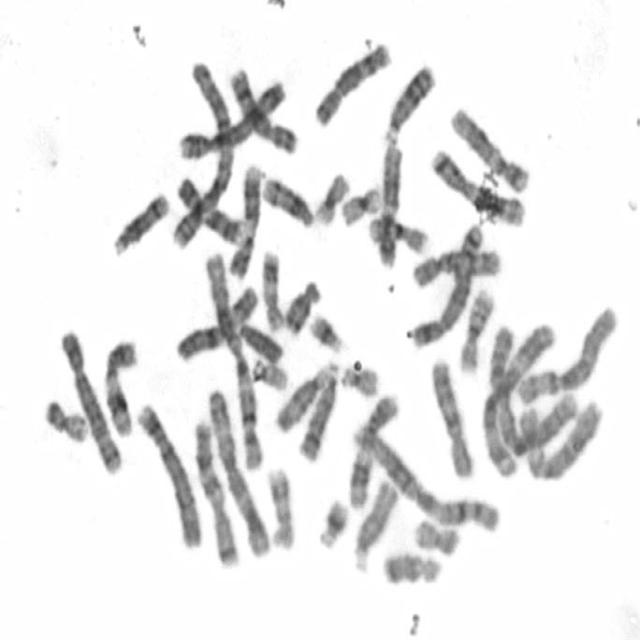A1: (347, 422, 503, 534), (201, 248, 259, 436)
A2: (169, 60, 236, 251), (488, 327, 579, 461)
A3: (480, 320, 559, 481), (204, 383, 270, 556)
B4: (134, 399, 204, 549), (174, 74, 288, 162)
B5: (409, 218, 486, 350), (57, 325, 123, 476)
C10: (428, 354, 475, 481), (409, 244, 502, 290)
C11: (224, 159, 264, 281), (100, 334, 140, 438)
C12: (447, 101, 530, 194), (374, 140, 404, 269)
C6: (513, 300, 619, 406), (516, 391, 606, 482)
C7: (428, 145, 526, 227), (191, 414, 240, 568)
C8: (311, 36, 393, 128), (228, 64, 298, 158)
C9: (173, 172, 245, 248), (224, 159, 264, 281)
D13: (294, 358, 340, 465), (381, 60, 436, 144)
D14: (110, 188, 170, 258), (260, 171, 315, 229)
D15: (270, 358, 340, 437), (350, 476, 399, 572)
E16: (454, 284, 496, 373), (365, 210, 428, 256)
E17: (264, 462, 296, 552), (259, 245, 285, 333)
E18: (280, 276, 322, 337), (379, 549, 443, 587)
F19: (311, 170, 351, 227), (338, 183, 382, 228)
F20: (41, 394, 90, 444), (412, 514, 462, 557)
G21: (314, 494, 350, 552), (307, 310, 344, 354)
G22: (338, 360, 381, 399), (248, 355, 289, 391)
X: (172, 281, 259, 363), (228, 64, 298, 158)
Y: (235, 318, 284, 366)
